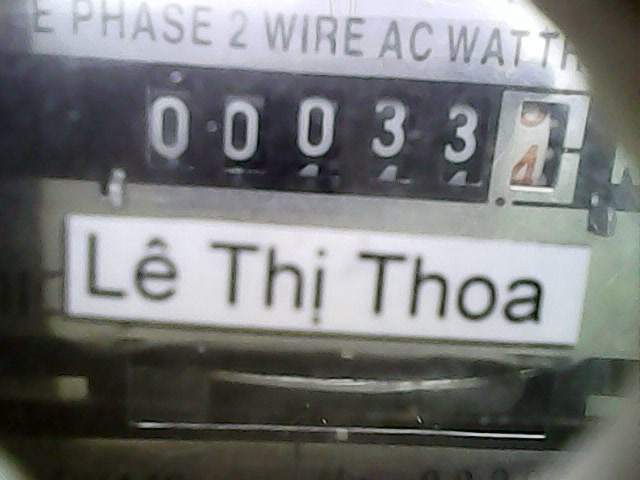phy_plate: (137, 58, 594, 221)
